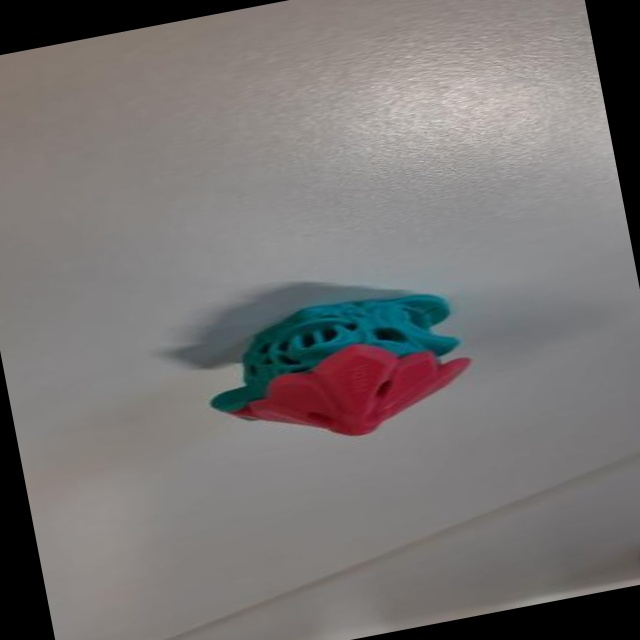House: (132, 249, 506, 487)
